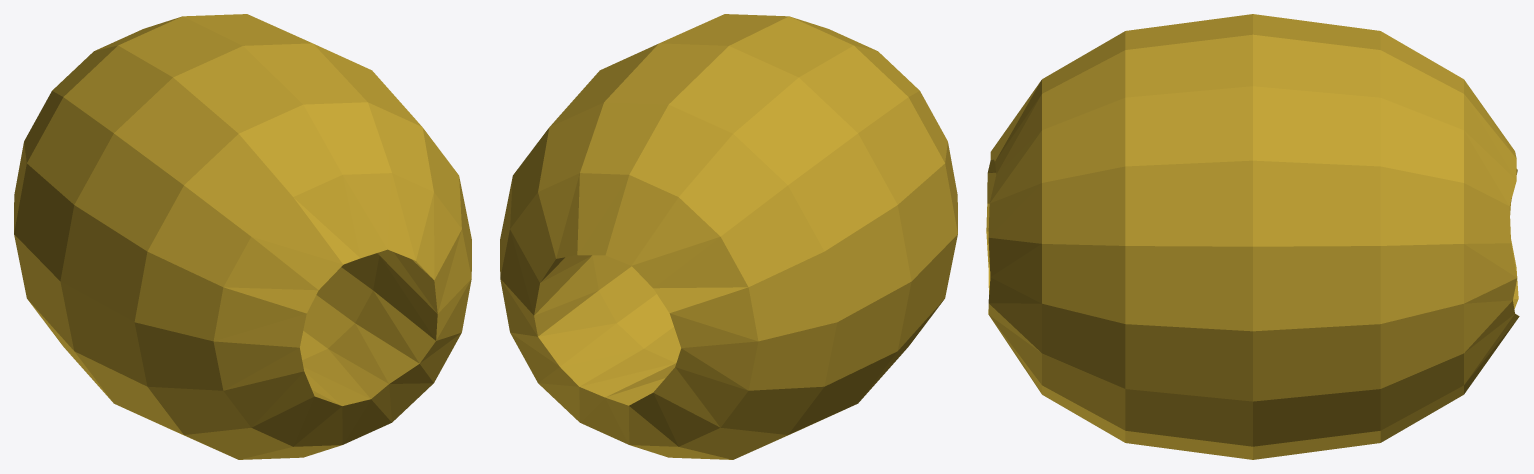
The picture shows the model from 3 angles, left to right: view 1: azimuth 30°, elevation 25°; view 2: azimuth 150°, elevation 25°; view 3: azimuth 270°, elevation 25°; orthographic projection. The views are drawn at different scales.
Visible parts, largest first — view 1: Olive; view 2: Olive; view 3: Olive.
Part boxes in pixels (<box>): Olive: <box>14,14,471,459</box>; Olive: <box>500,14,957,459</box>; Olive: <box>986,14,1519,459</box>.
Bounding box in the file's own units: 17 × 17 × 20.31.
1 material, 1 textured.
